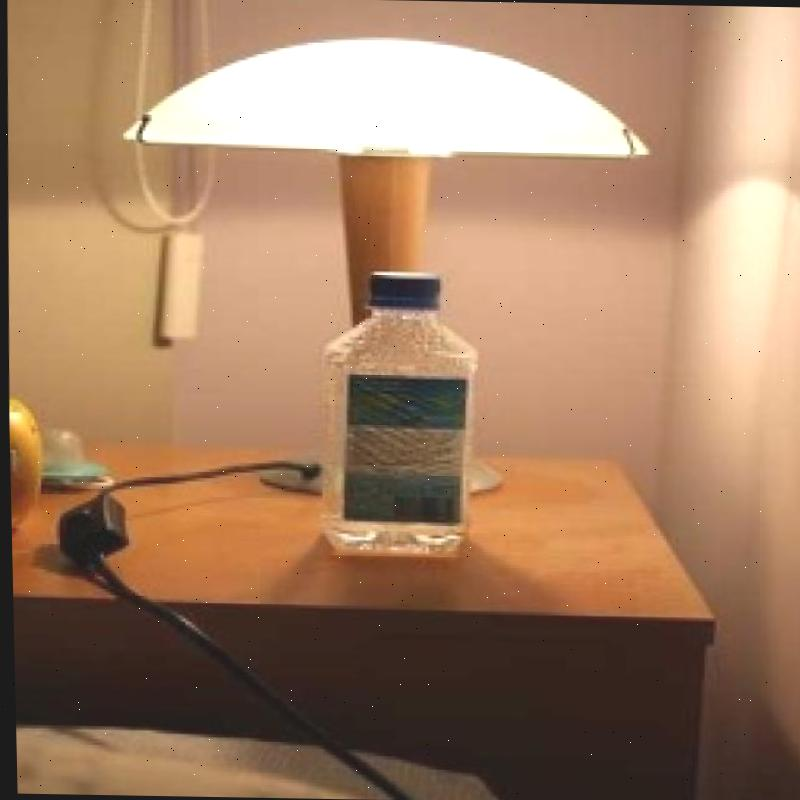botella: (320, 269, 484, 566)
